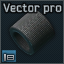KRISS Vector 9x19 thread protection cap: (0, 0, 64, 64)
